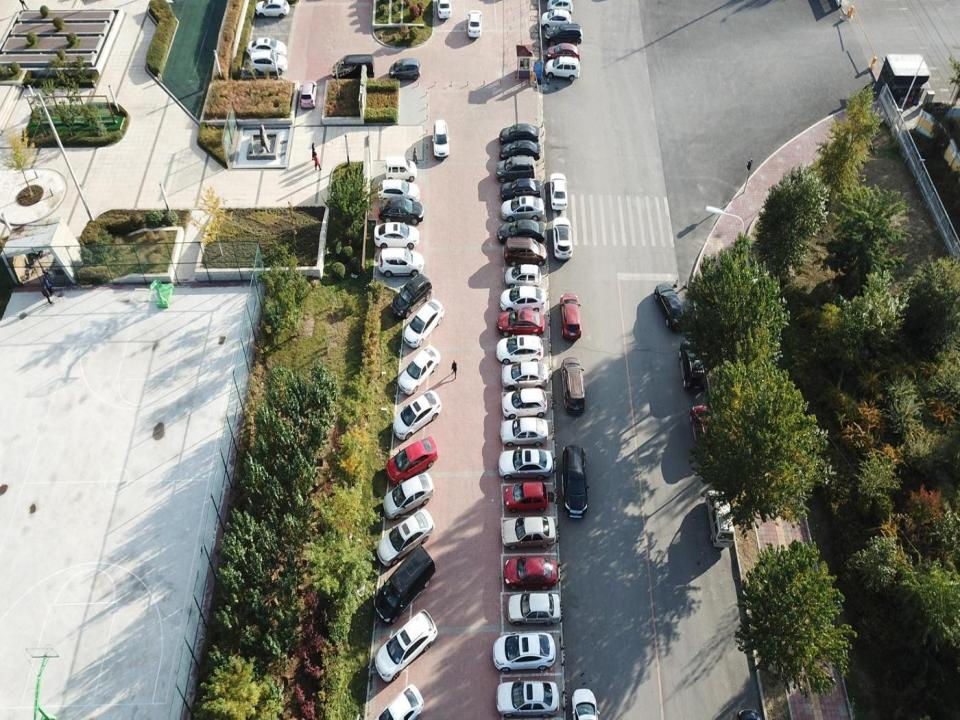car: (373, 544, 434, 624), (375, 608, 437, 682), (375, 509, 433, 568), (380, 472, 433, 521), (385, 436, 437, 485), (389, 391, 441, 440), (493, 634, 555, 672), (560, 444, 589, 522), (497, 680, 558, 717), (389, 271, 432, 322), (402, 299, 446, 348), (397, 344, 440, 394), (499, 450, 555, 481), (690, 402, 718, 463), (504, 592, 560, 622), (503, 556, 558, 586), (502, 516, 557, 546), (655, 281, 688, 330), (708, 488, 734, 547), (379, 245, 424, 279), (380, 685, 424, 719), (679, 339, 705, 393), (562, 357, 586, 415), (500, 418, 548, 447), (504, 480, 550, 510), (498, 308, 544, 338), (501, 284, 547, 314), (500, 388, 546, 417), (378, 196, 422, 226), (503, 362, 548, 391), (497, 336, 543, 364), (374, 222, 418, 251), (504, 238, 546, 268), (498, 220, 547, 245), (502, 195, 544, 223), (500, 179, 542, 207), (495, 155, 536, 183), (333, 53, 377, 79), (499, 122, 539, 150), (559, 293, 581, 343), (378, 178, 418, 205), (504, 264, 542, 292), (500, 140, 541, 164), (246, 36, 287, 60), (569, 688, 599, 719), (385, 156, 415, 185), (554, 218, 574, 260), (248, 52, 288, 73), (543, 25, 583, 46), (548, 170, 568, 211), (545, 43, 580, 66), (390, 58, 422, 82), (432, 119, 449, 159), (256, 0, 290, 19), (542, 9, 570, 28), (467, 10, 483, 38), (302, 79, 317, 107), (550, 0, 573, 13), (437, 0, 452, 19)
van: (545, 58, 580, 82)
